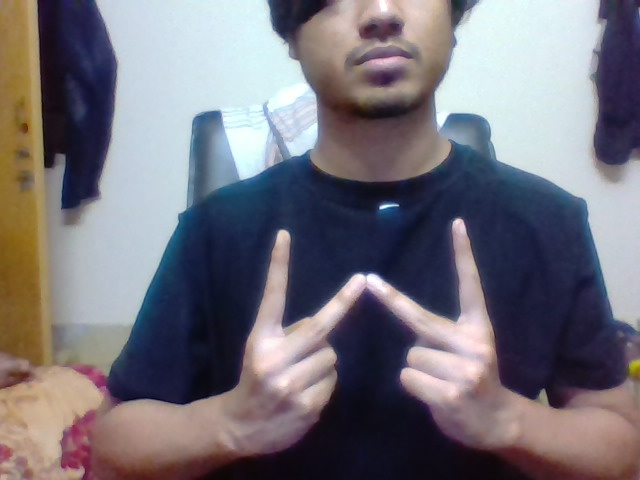W: (259, 214, 490, 334)
